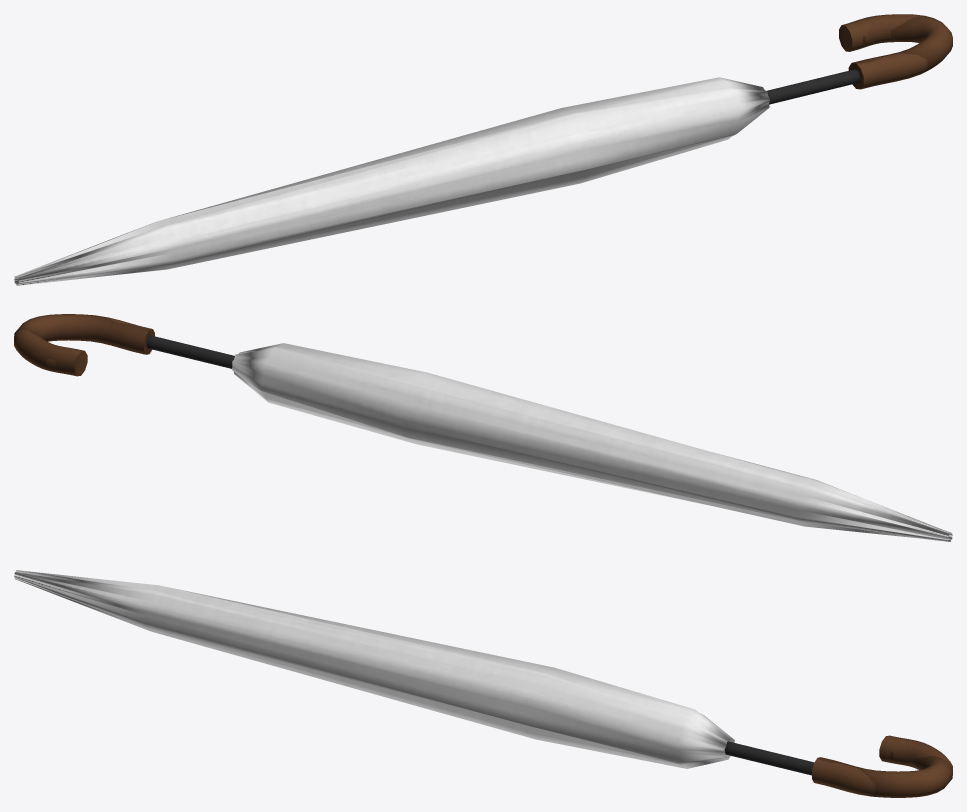
Rendered from closed-black.glb.
3 renders of one model, top to bottom at view 1: azimuth 30°, elevation 25°; view 2: azimuth 150°, elevation 25°; view 3: azimuth 330°, elevation 25°, orthographic. The views are drawn at different scales.
Visible parts, largest first — view 1: fabric_primary_canopy, wood_v, shaft; view 2: fabric_primary_canopy, wood_v, shaft; view 3: fabric_primary_canopy, wood_v, shaft.
Boxes of the visible parts, bbox=[...] form: fabric_primary_canopy: bbox=[14, 77, 769, 285]; wood_v: bbox=[839, 14, 952, 89]; shaft: bbox=[767, 69, 859, 104]; fabric_primary_canopy: bbox=[231, 343, 952, 541]; wood_v: bbox=[14, 314, 154, 376]; shaft: bbox=[146, 335, 234, 368]; fabric_primary_canopy: bbox=[14, 570, 734, 768]; wood_v: bbox=[812, 735, 952, 797]; shaft: bbox=[724, 741, 814, 775].
Bounding box in the file's own units: 0.9354 × 0.064 × 0.1161.
Materials: 3 (3 with a texture image).
